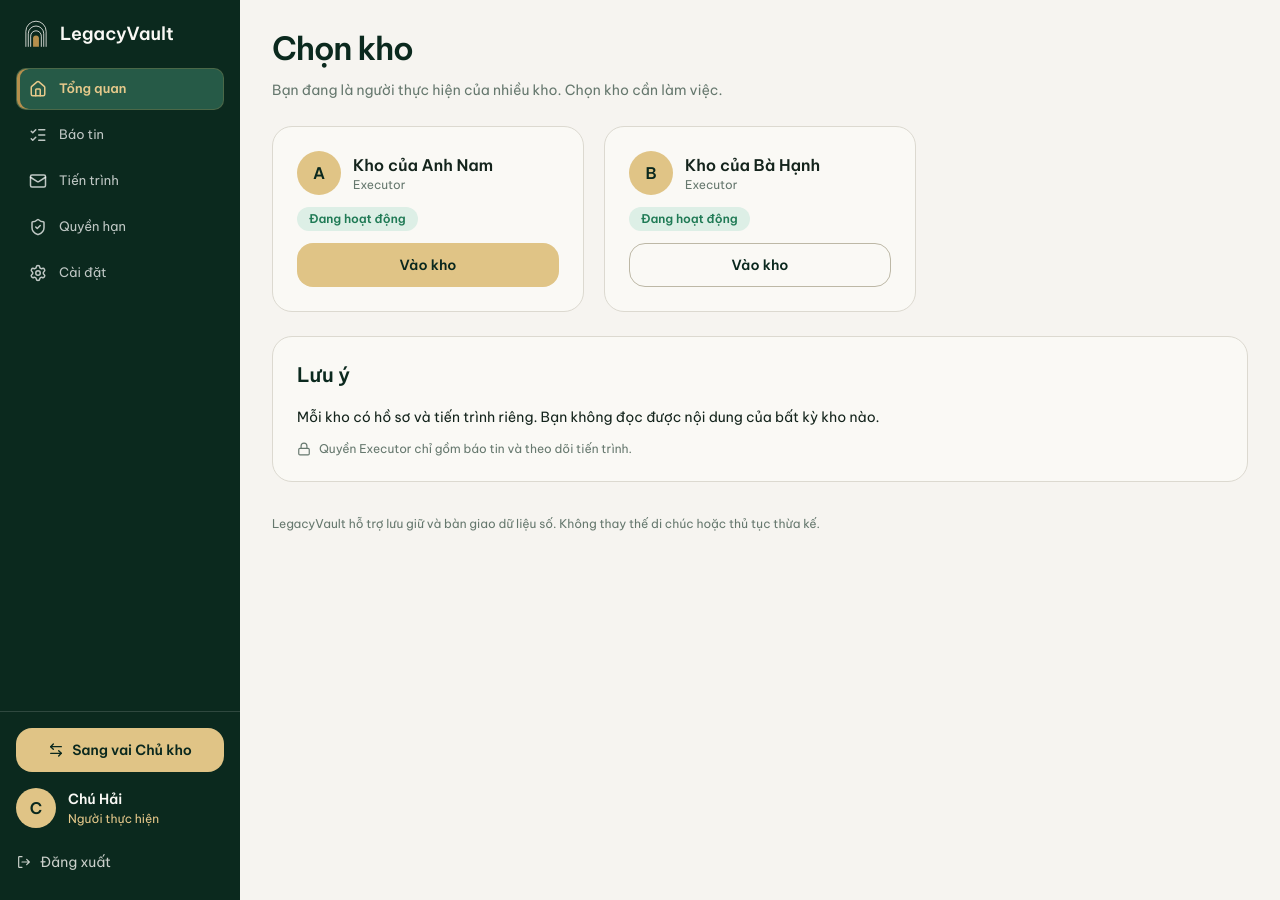
Test: Executor overview › lets an Executor of several vaults choose one and remembers the choice
Check: the heading "Chọn kho" is shown, box [272,28,413,68]
Check: the heading "Kho của Anh Nam" is shown, box [353,153,493,177]
Click the button with aria-label "Vào kho của Bà Hạnh" at (760, 265), box [629,243,891,287]
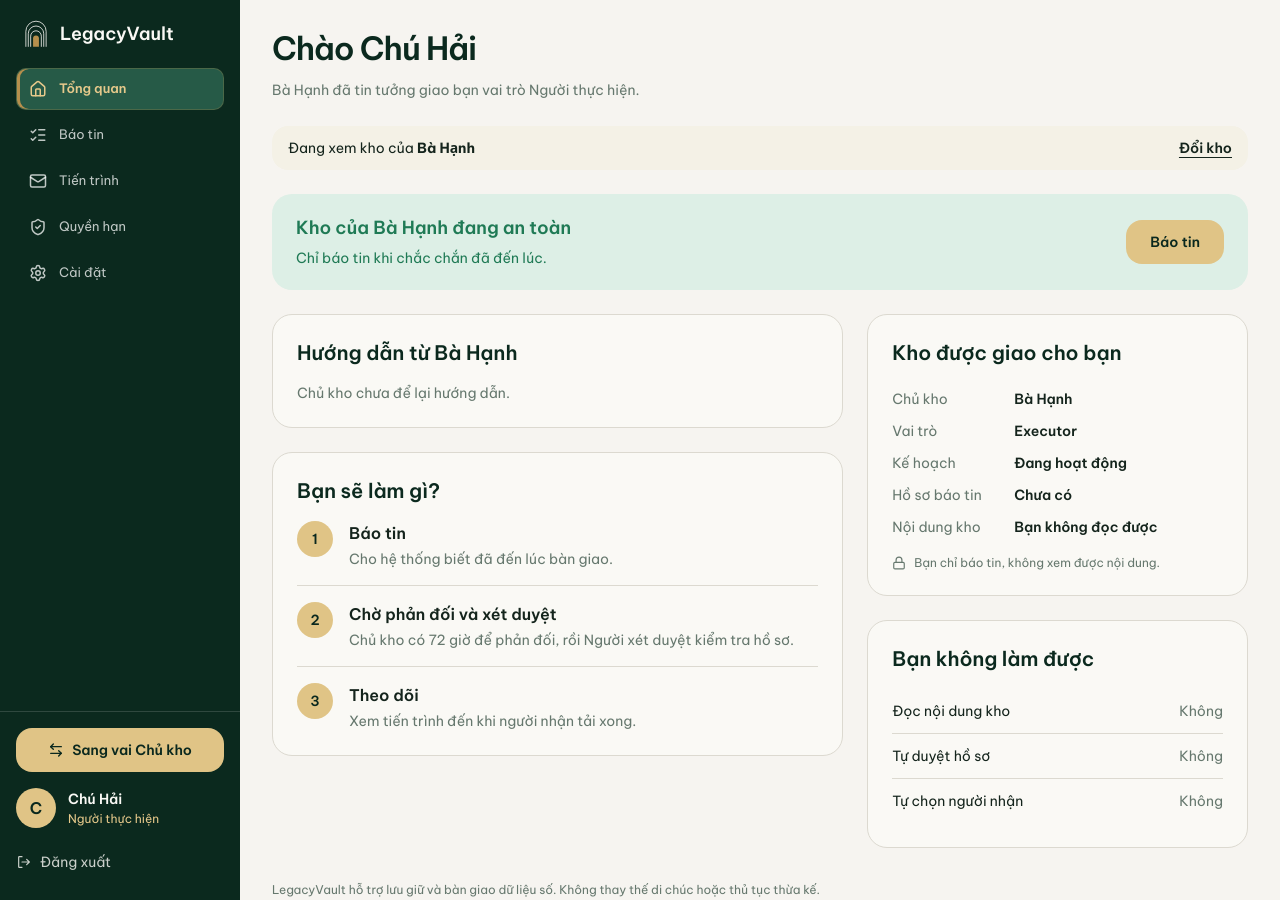
Check: the text "Kho của Bà Hạnh đang an toàn" is shown, box [296,214,571,242]
Note: Đổi kho quay lại bước chọn.
Click the button "Đổi kho" at (1206, 148), box [1179,138,1232,158]
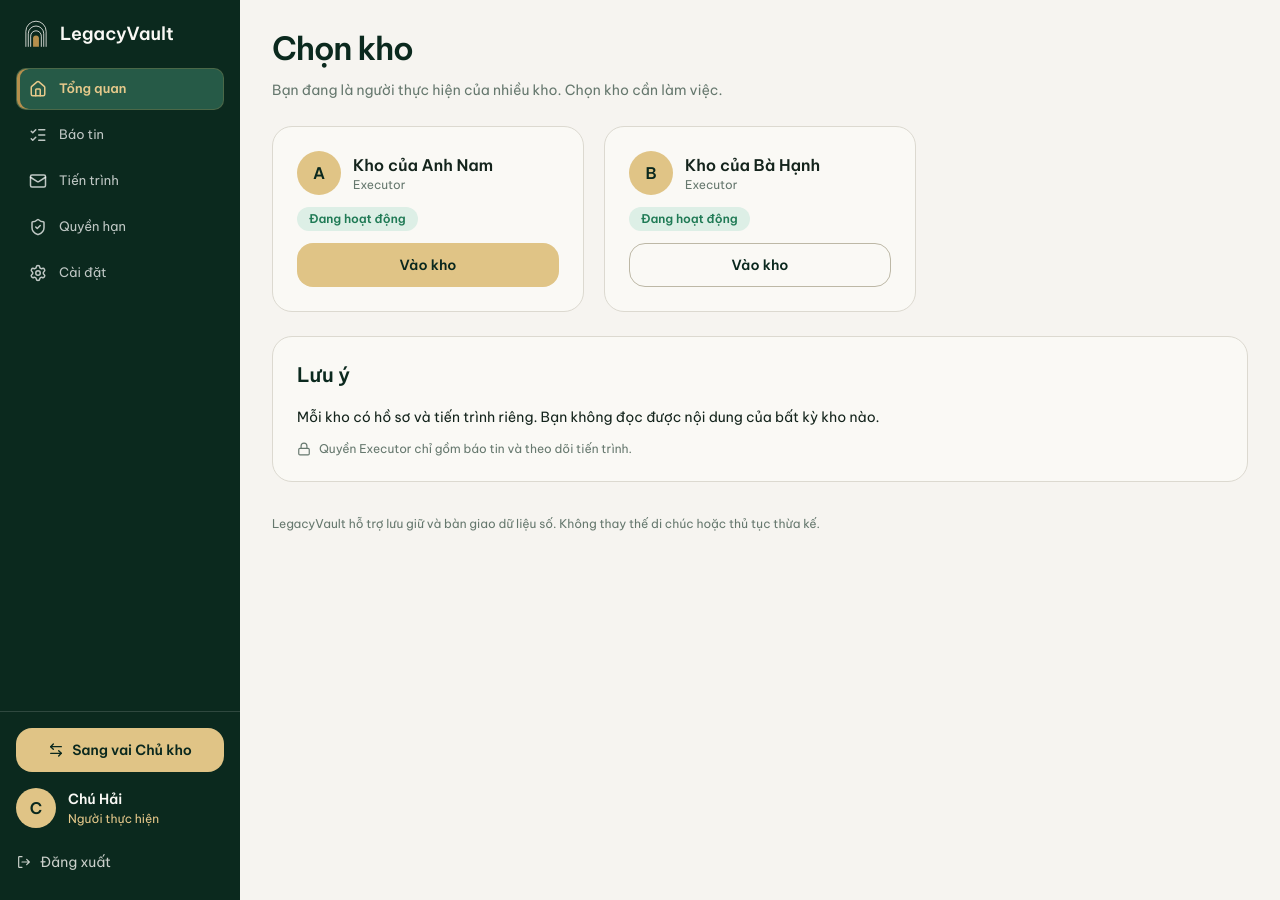
Check: the heading "Chọn kho" is shown, box [272,28,413,68]
